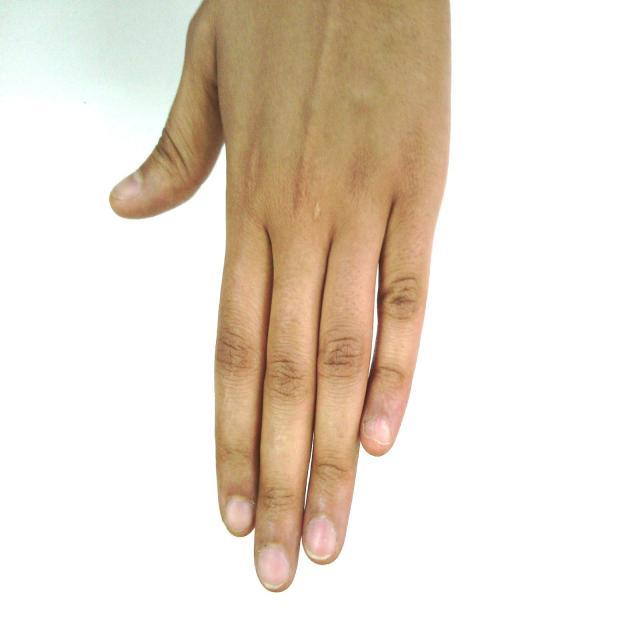Fingernail: (259, 546, 290, 586), (305, 518, 335, 558), (227, 499, 253, 532), (112, 175, 140, 201), (367, 419, 391, 444)
